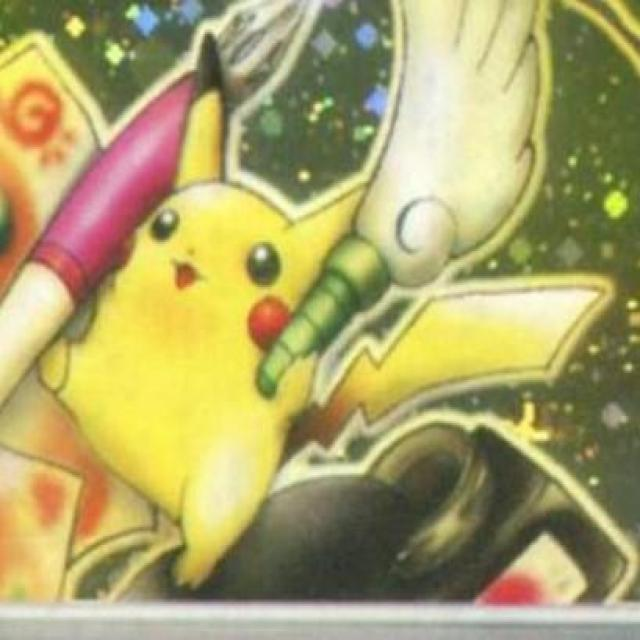pikachu: (35, 31, 607, 588)
